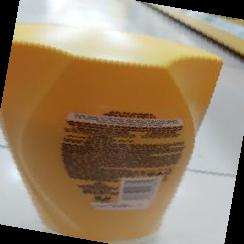sunsilk yellow: (4, 23, 224, 240)
